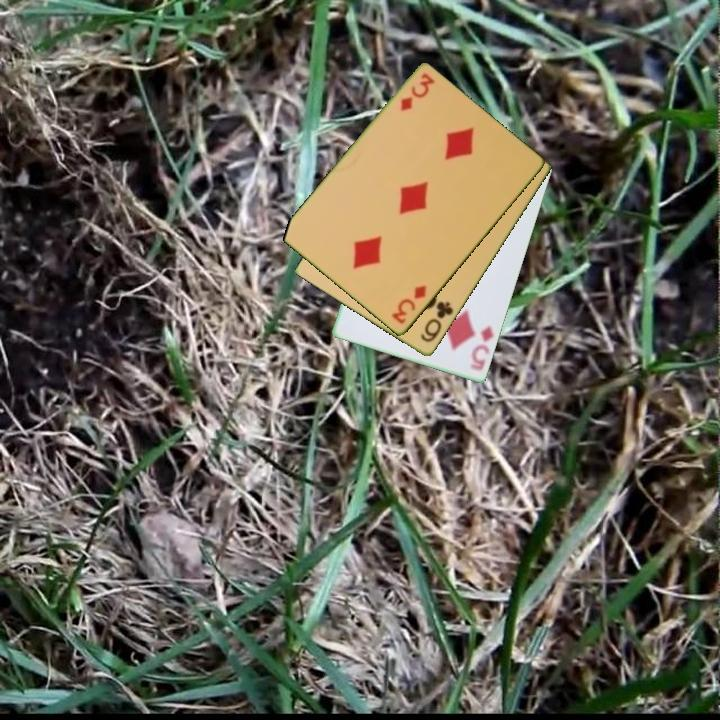3d: (388, 282, 430, 327), (397, 70, 437, 114)
5d: (467, 323, 497, 375)
6c: (417, 298, 456, 345)
